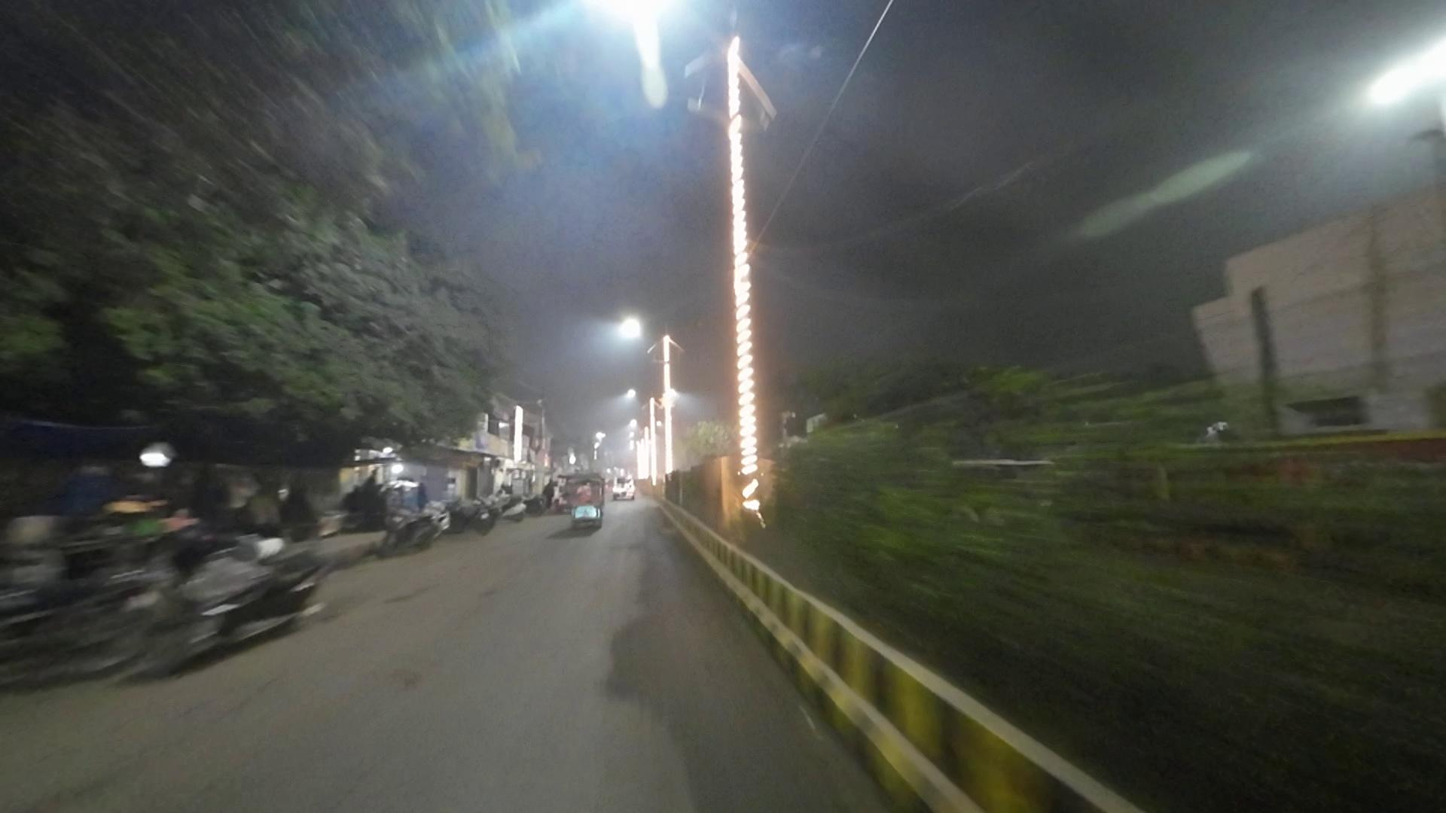streetlight: (758, 32, 828, 67)
